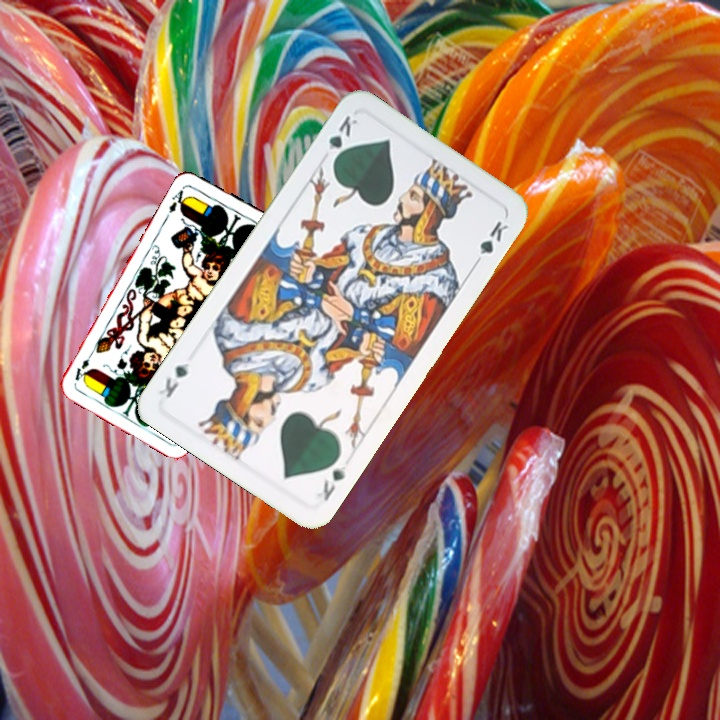EA: (165, 183, 191, 216)
GK: (324, 111, 360, 167), (312, 461, 349, 504)
